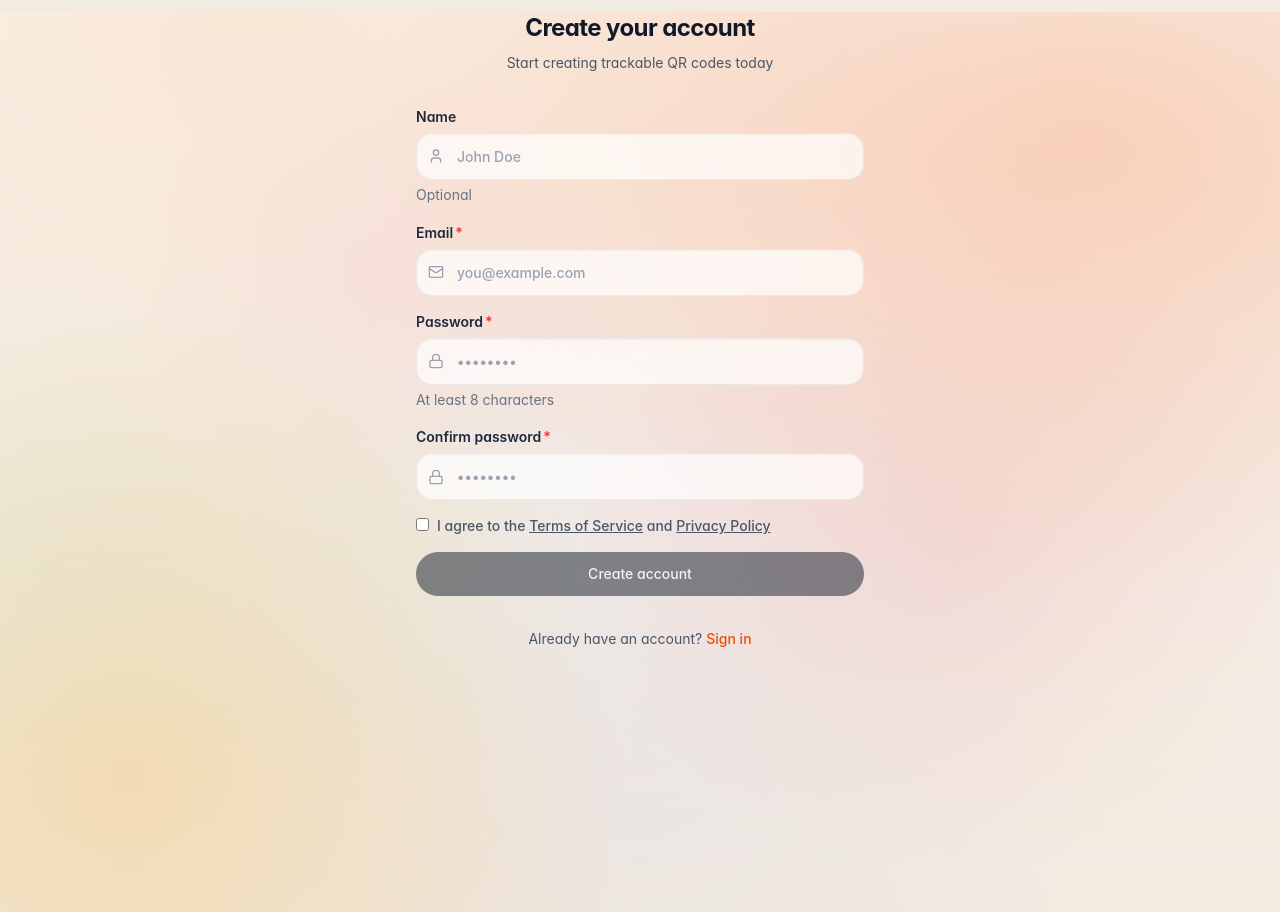
Test case: SignUpForm › shows error for short password (less than 8 chars)
Type "john@example.com" into the field labelled "Email*" at [640, 272], box [416,248,864,296]
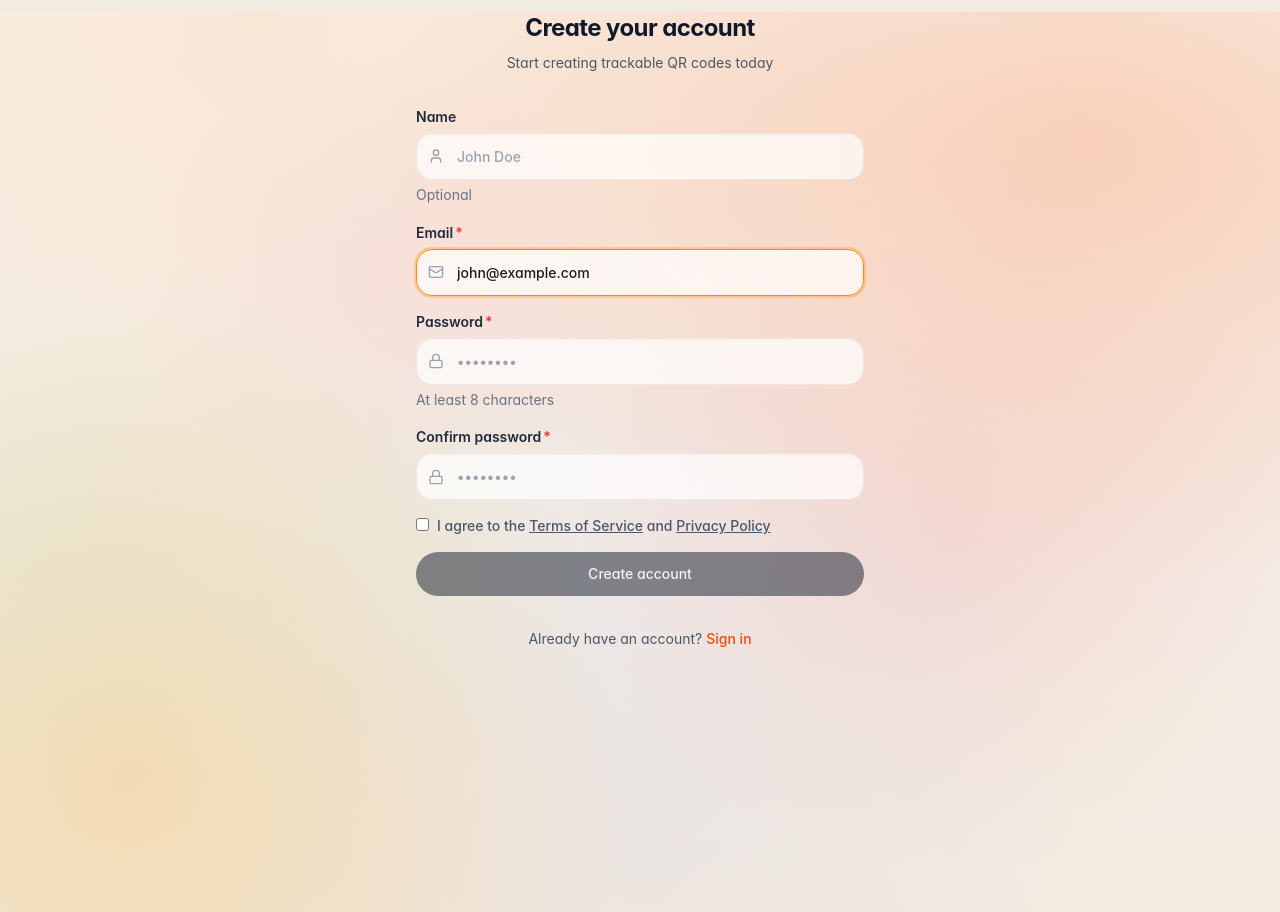
Type "short" into the password field with placeholder "••••••••" at [640, 361], box [416,338,864,384]
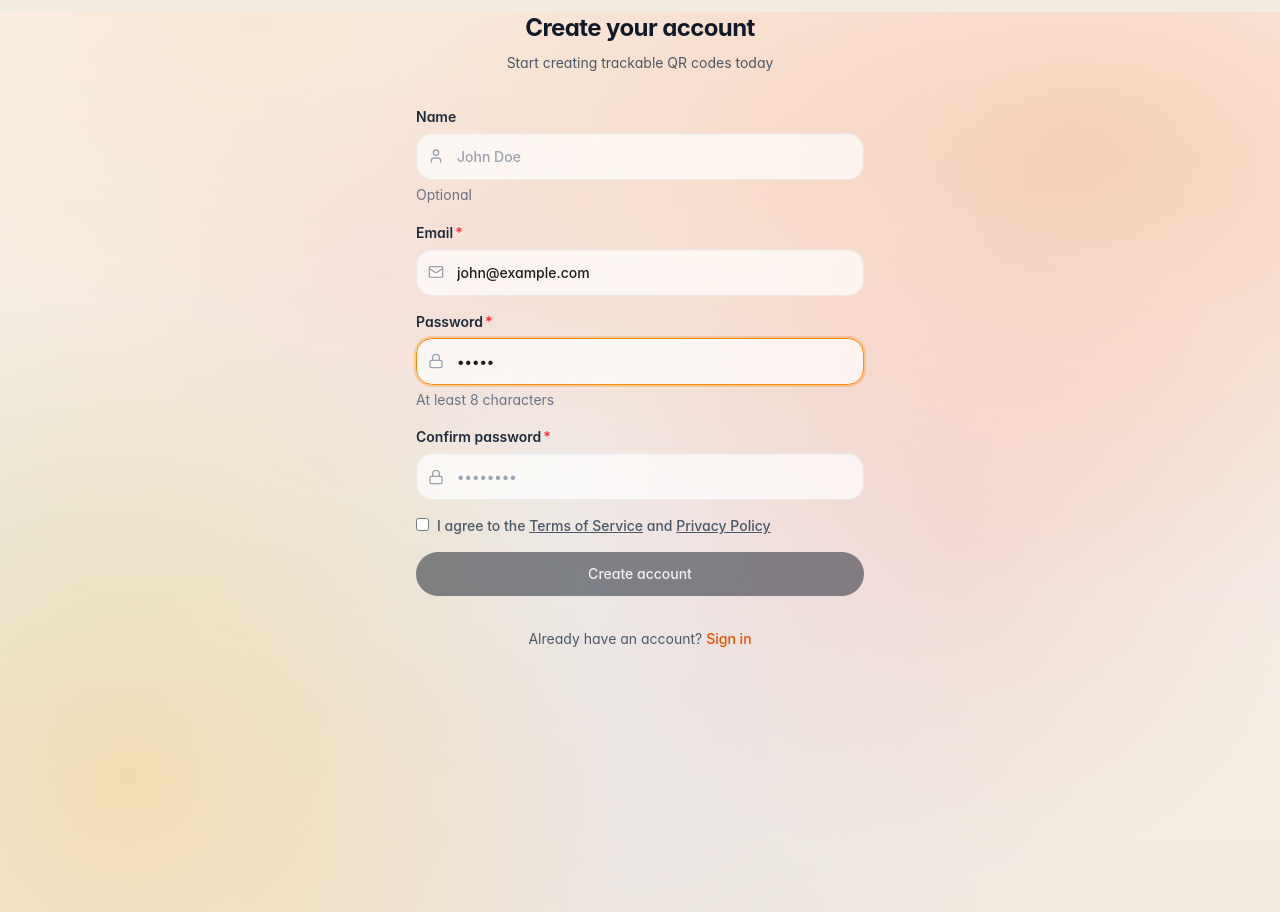
Type "short" into the password field with placeholder "••••••••" at [640, 477], box [416,453,864,500]
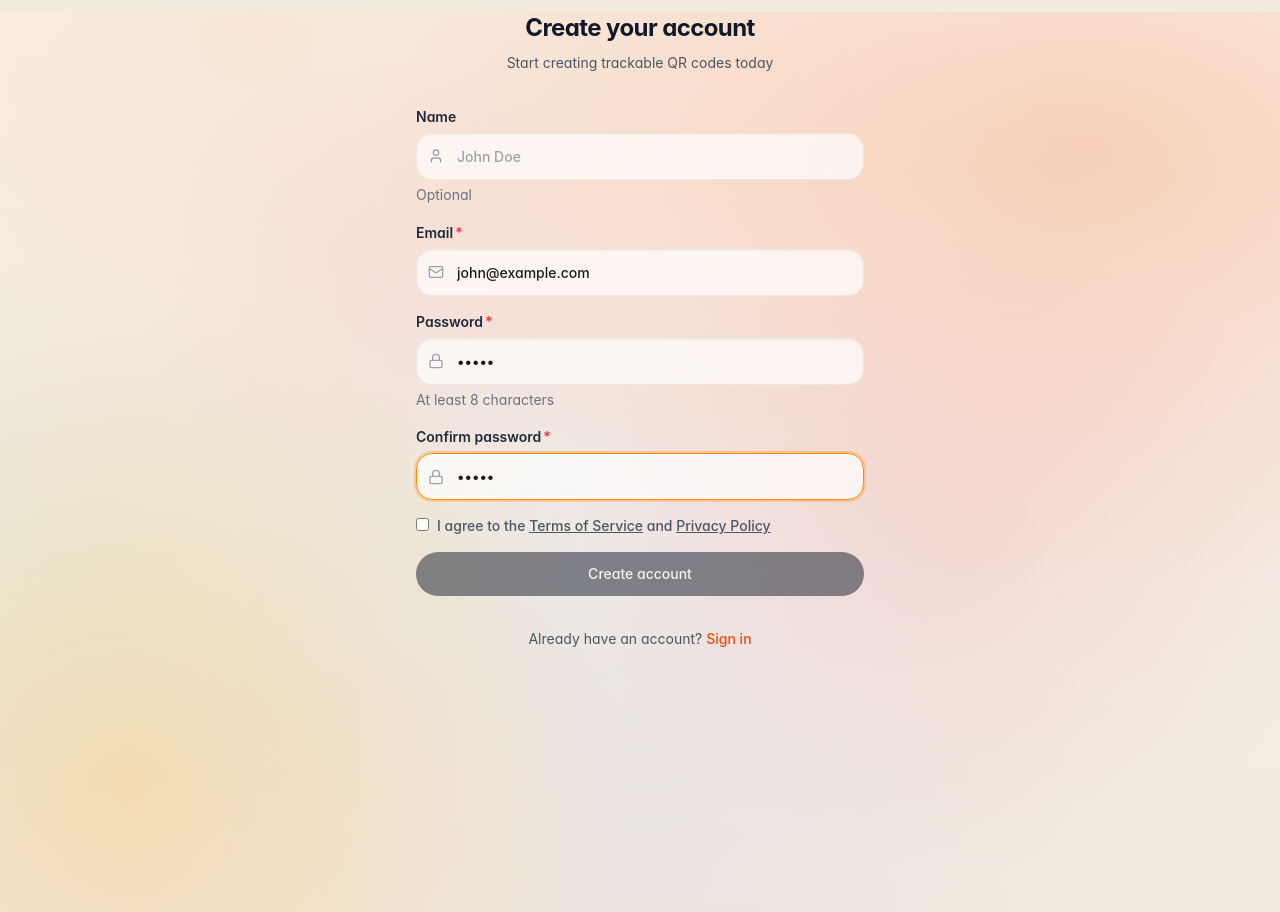
Click the checkbox at [422, 525], box [416,518,429,531]
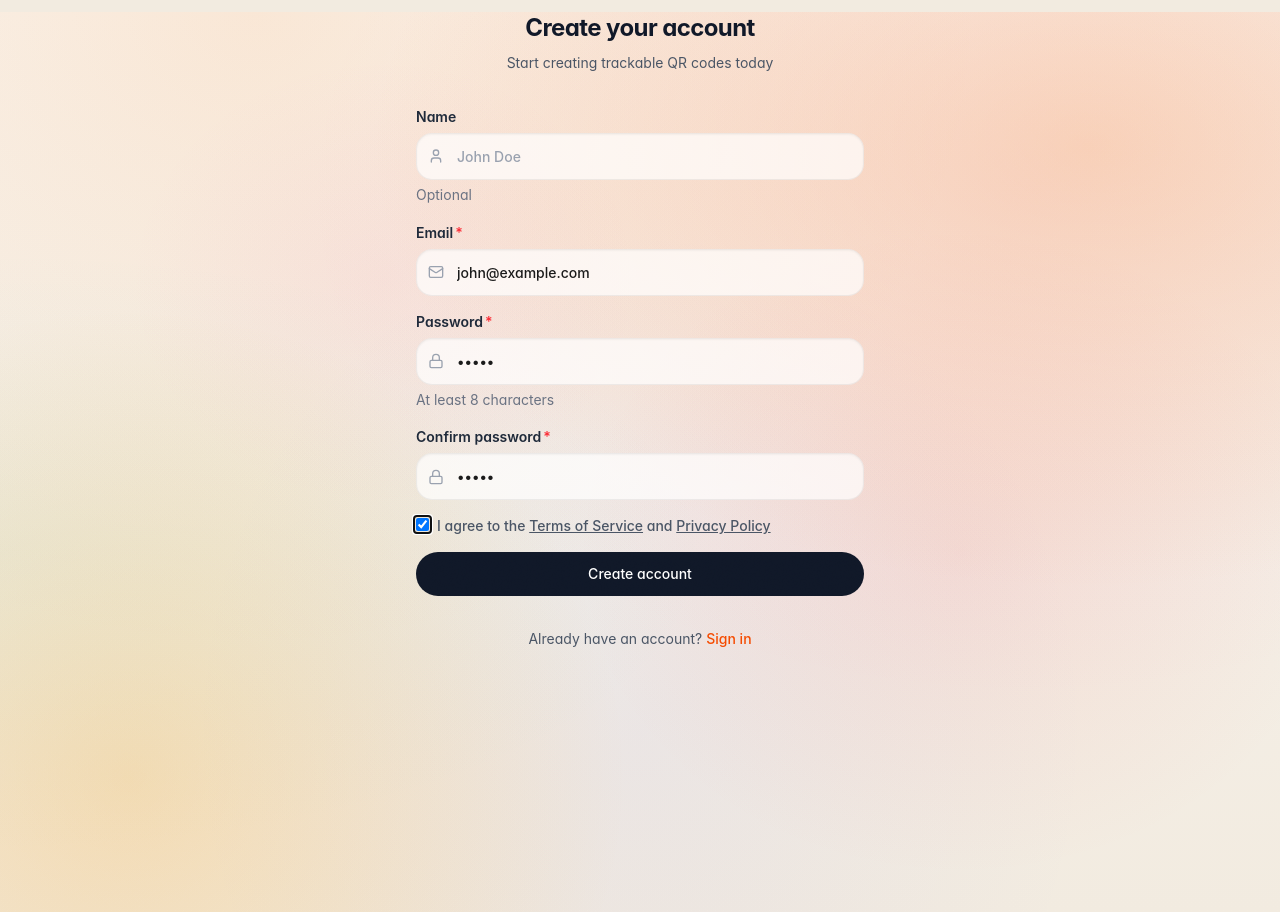
Click the button "Create account" at [640, 574], box [416,552,864,596]
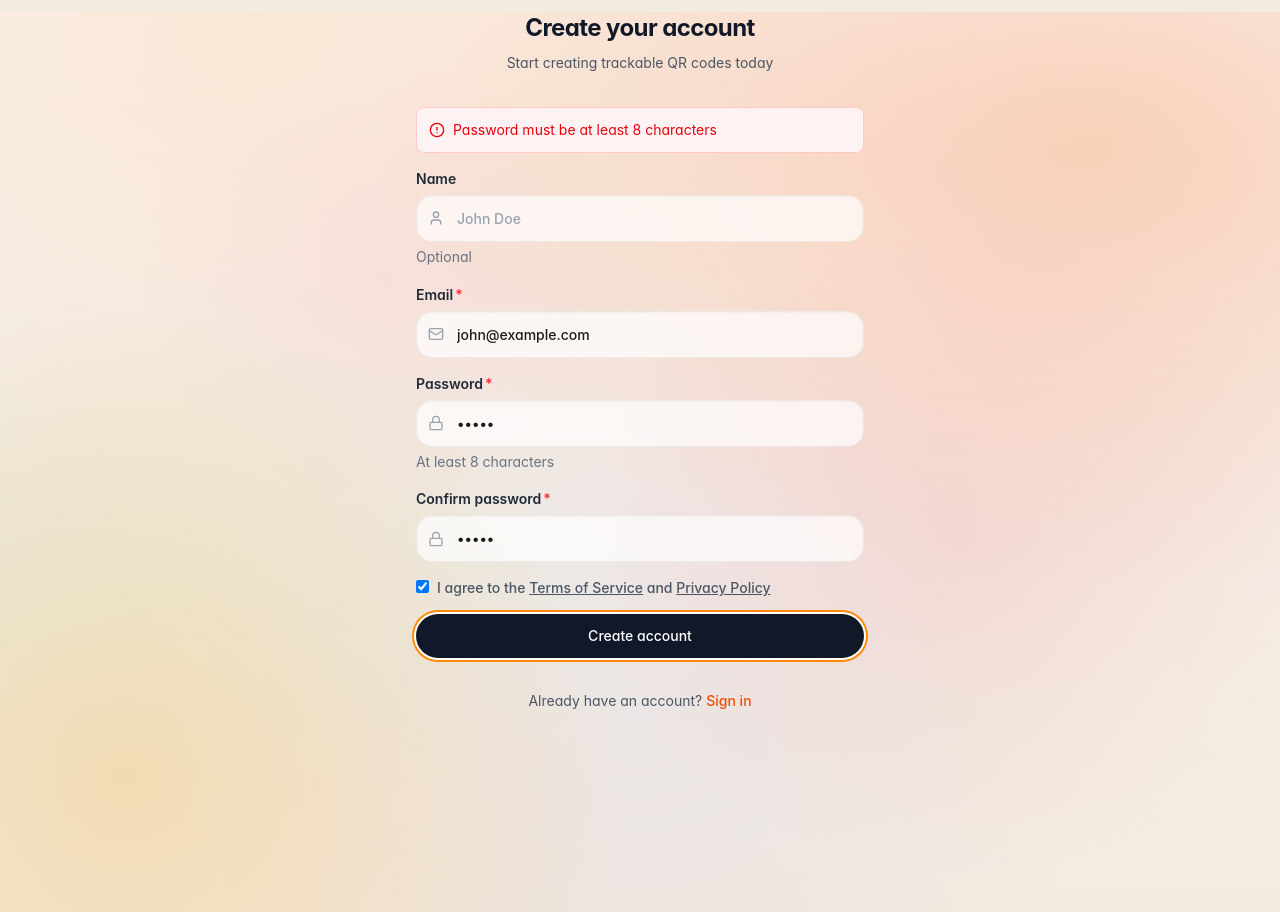
Result: the text "Password must be at least 8 characters" is shown at [453,120,717,140]
